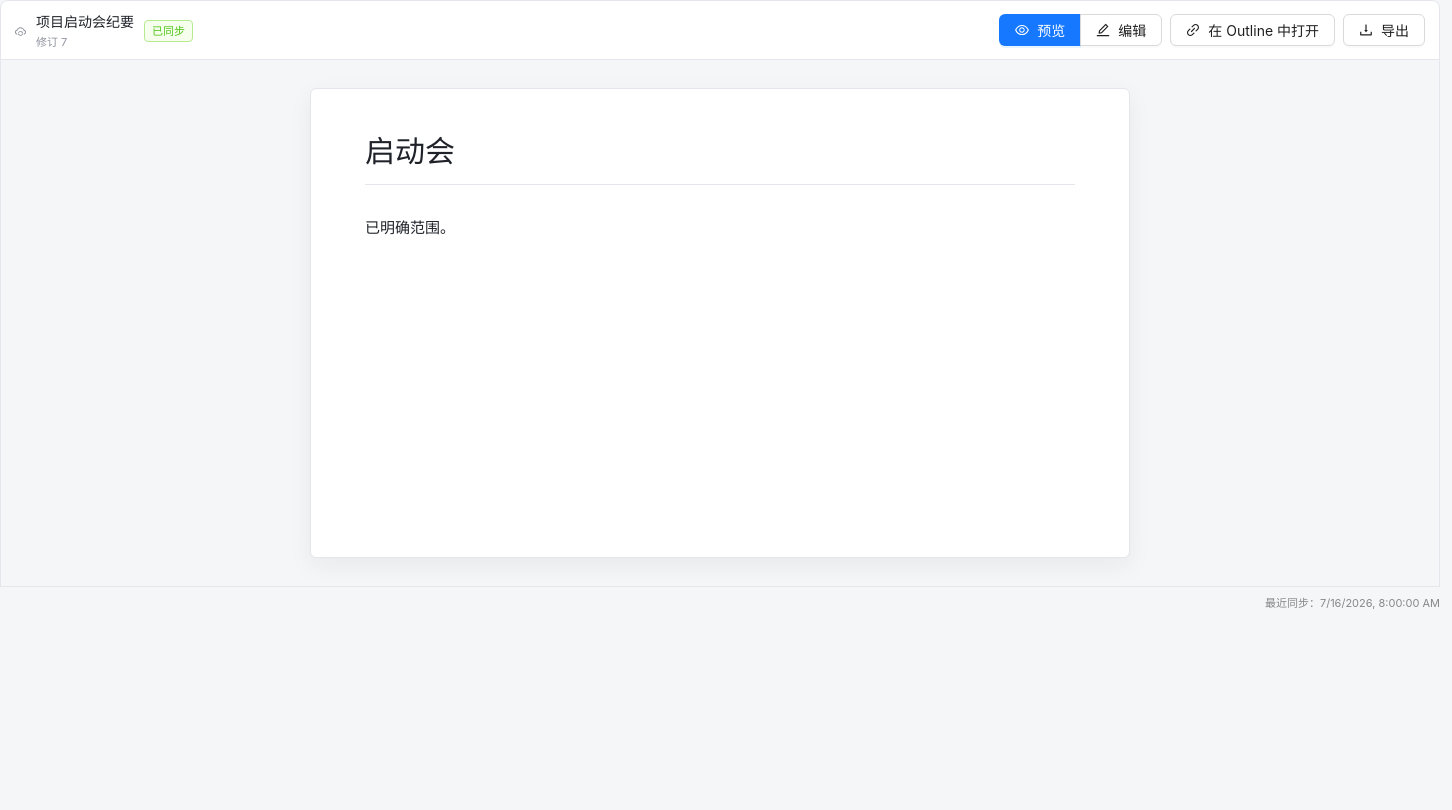
Test: keeps local markdown and explains a revision conflict
The width and height of the screenshot is (1452, 810).
Click the button "编辑" at x=1121, y=30, box [1080, 14, 1162, 46]
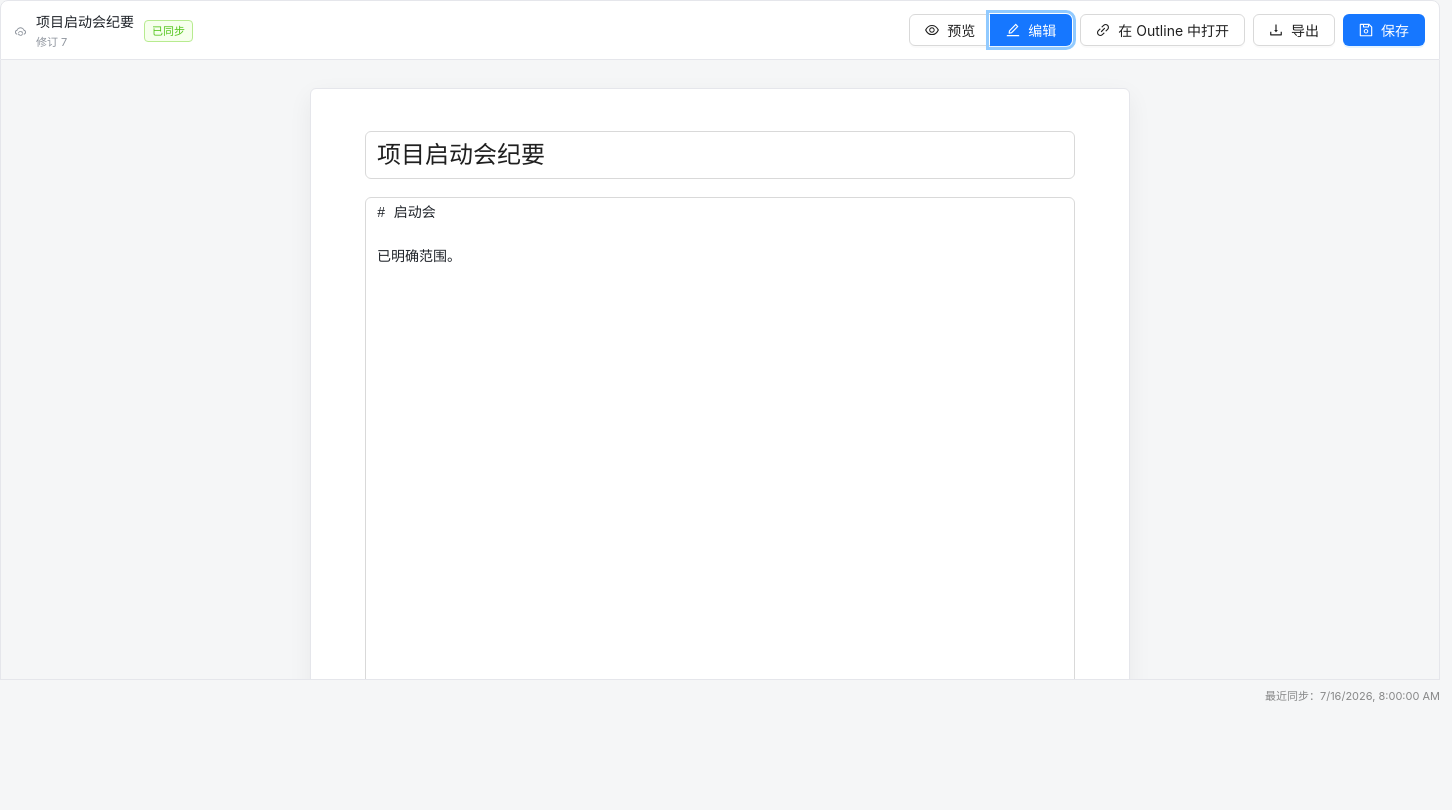
Replace the text in the text box named "Markdown 正文" with "我的本地修改" at x=720, y=466, box [365, 197, 1075, 735]
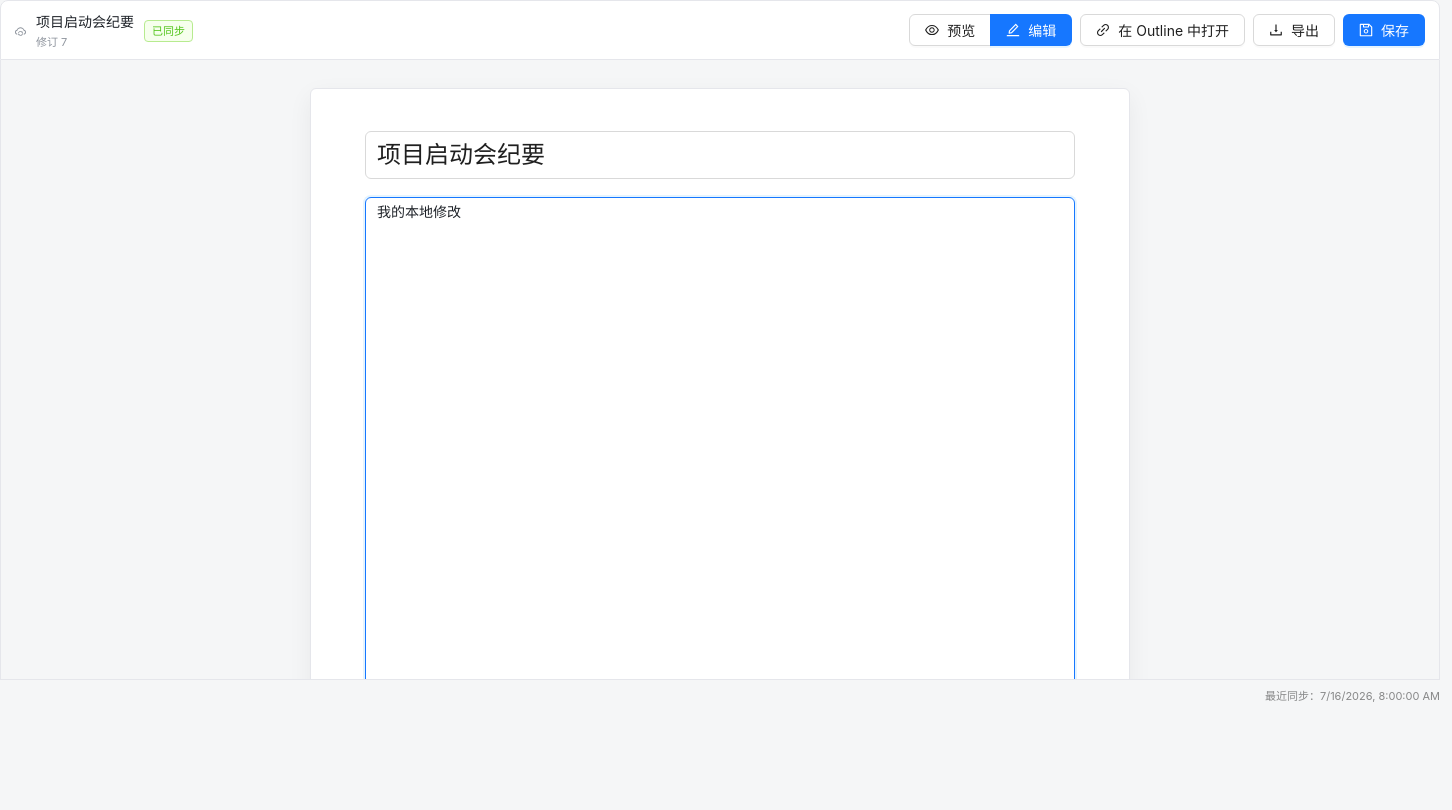
Click the button "保存" at x=1384, y=30, box [1343, 14, 1425, 46]
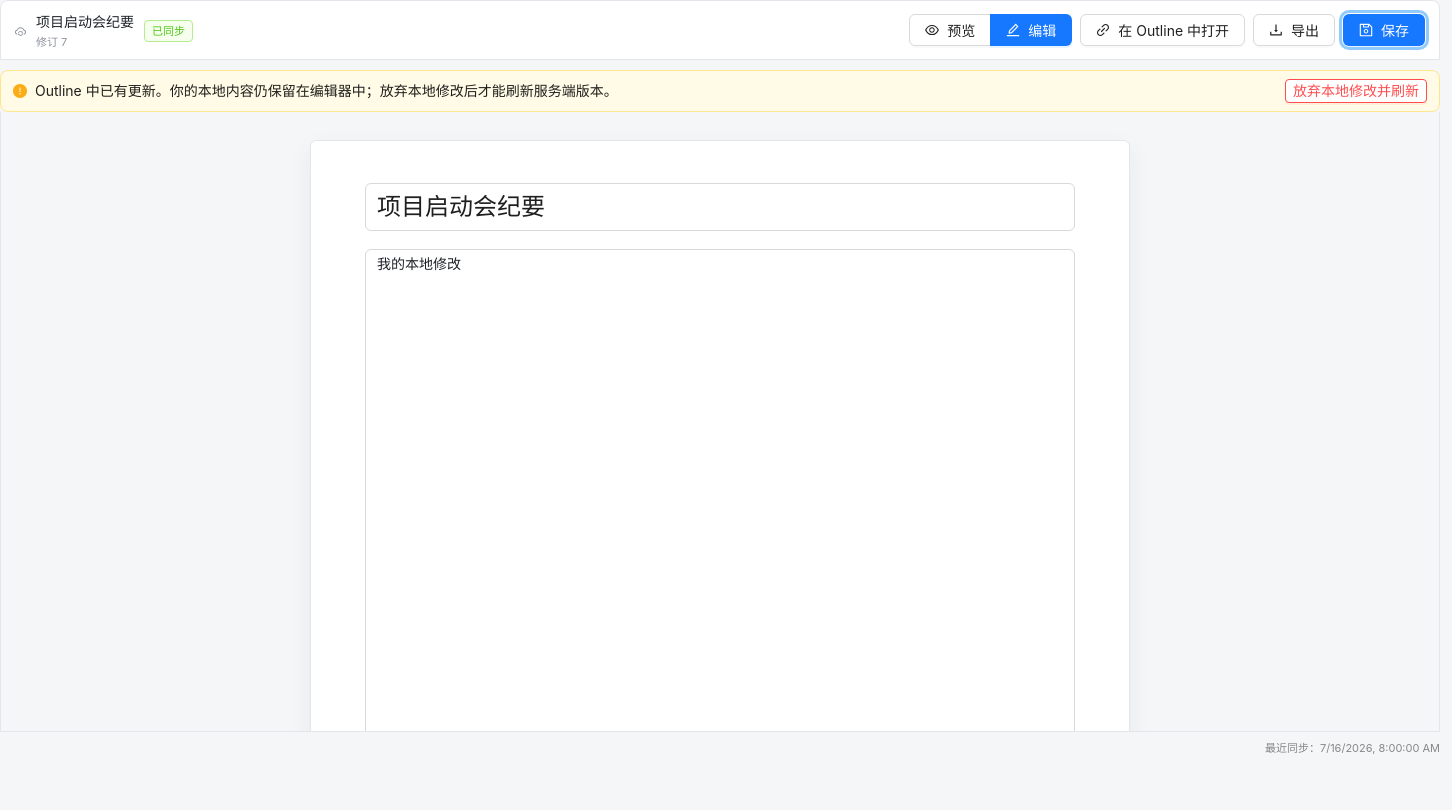
Now the text "Outline 中已有更新。你的本地内容仍保留在编辑器中；放弃本地修改后才能刷新服务端版本。" is shown, box [35, 82, 618, 99]
Click the button "放弃本地修改并刷新" at x=1356, y=91, box [1285, 79, 1427, 103]
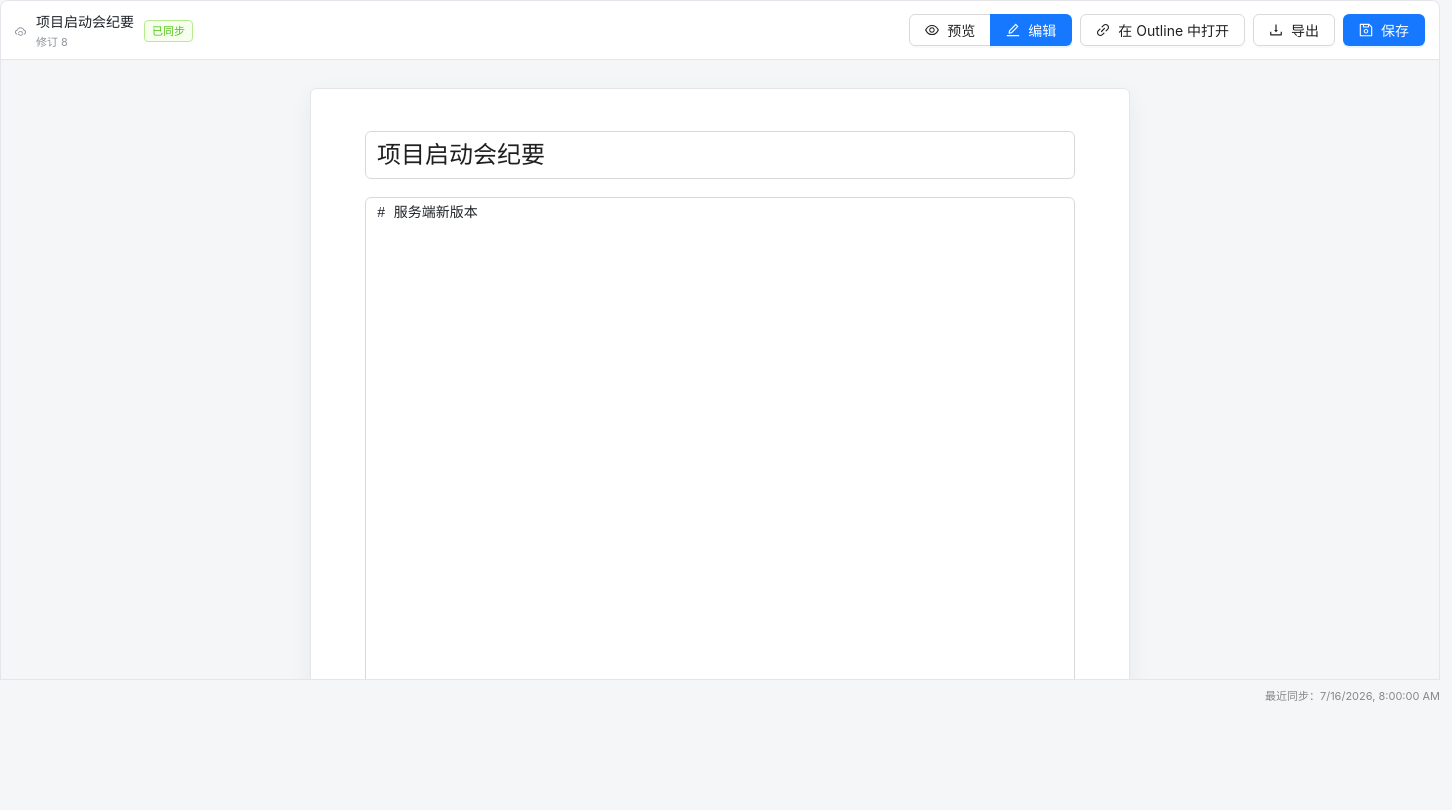
Now the text box named "Markdown 正文" holds "# 服务端新版本", box [365, 197, 1075, 680]
